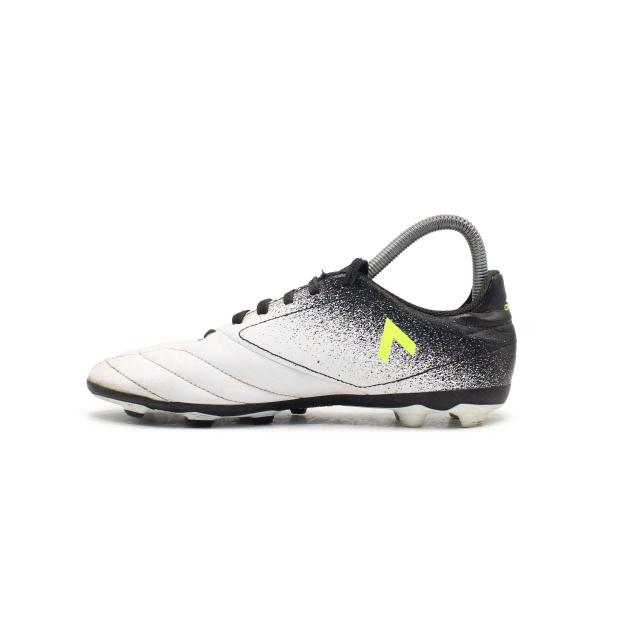heel: (463, 269, 516, 398)
midsole: (88, 381, 507, 428)
uppersole: (89, 260, 466, 404)
